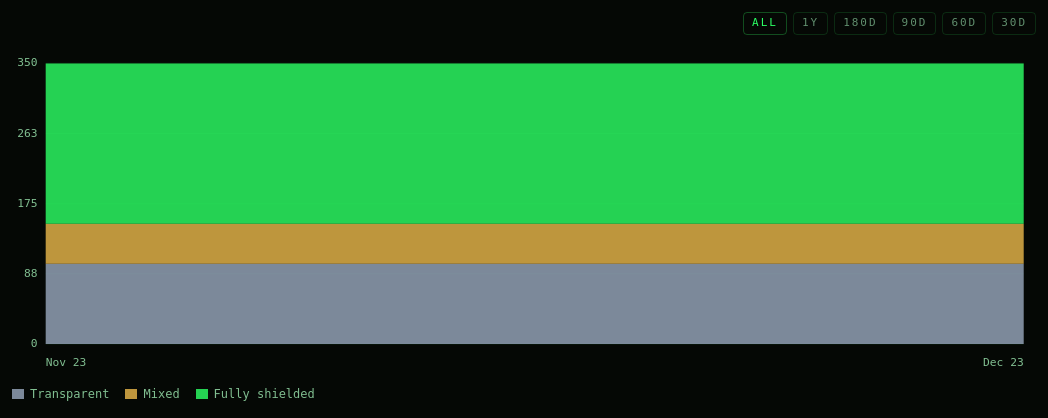
Scenario: ChartFigure range toggle › answers a sub-ALL range honestly when the daily series is unreadable
Click the button "90D": (914, 23) [893,12,936,34]
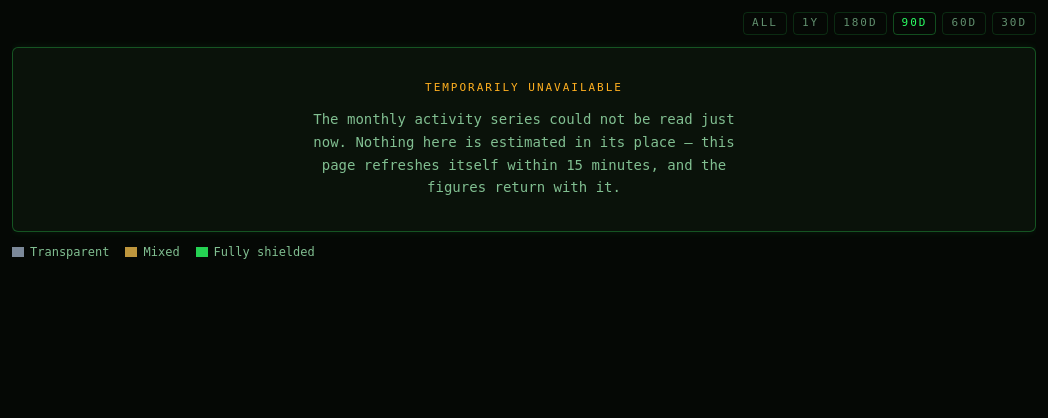
Result: the text "TEMPORARILY UNAVAILABLE" is shown at [425,80,623,94]
Click the button "ALL": (765, 23) [743,12,787,34]
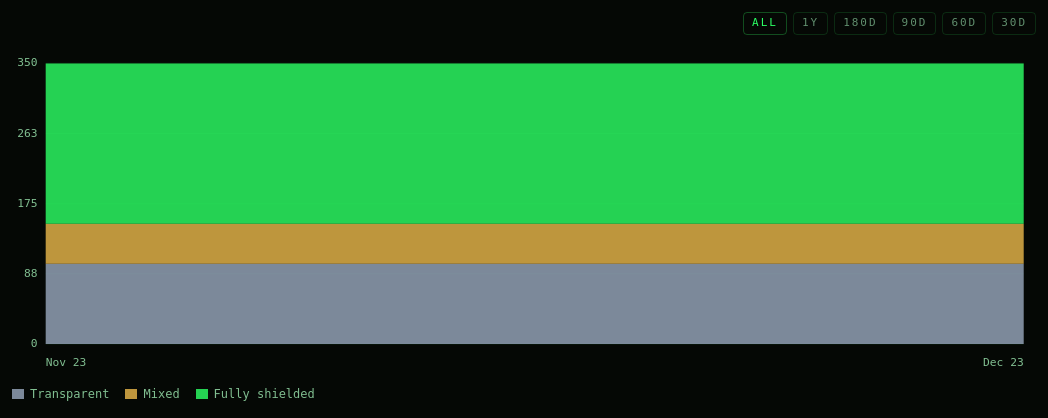
Result: the picture named "per month by privacy kind" is shown
